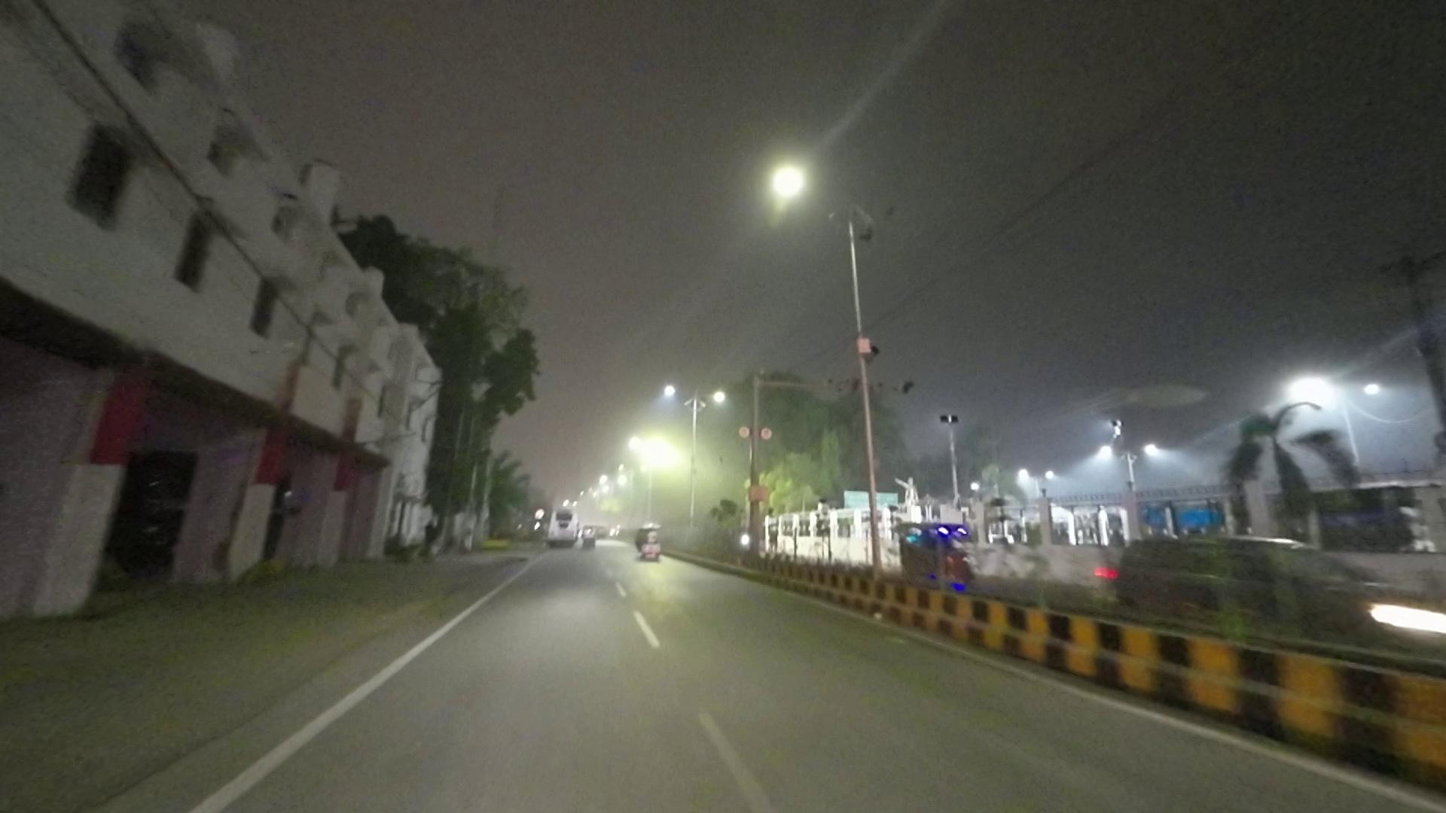streetlight: (861, 196, 900, 218)
